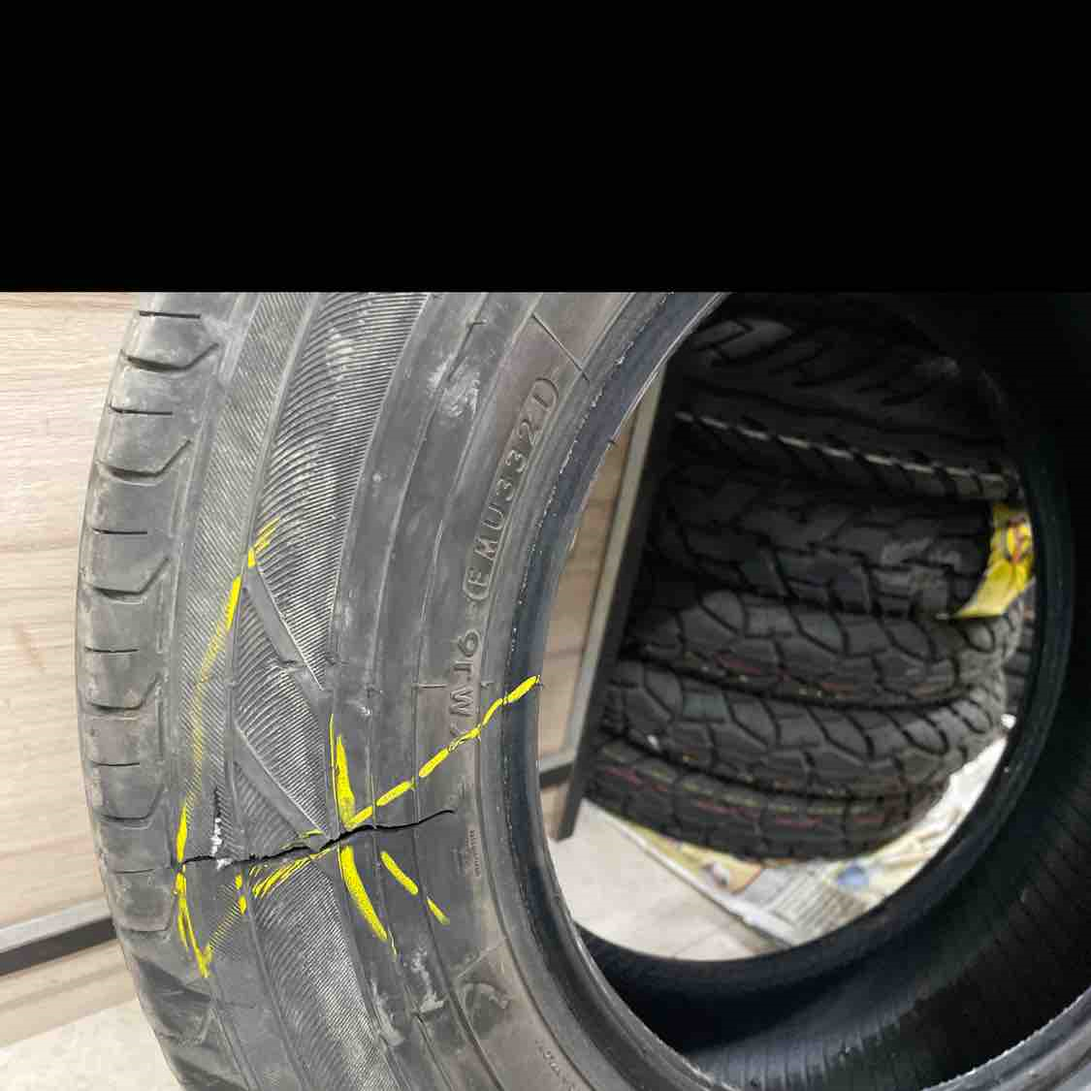cut: (161, 805, 452, 879)
